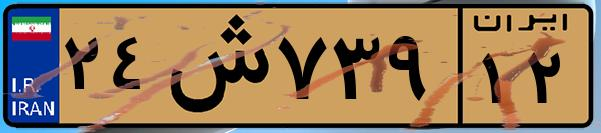1: (475, 38, 525, 113)
2: (57, 26, 110, 100), (525, 38, 570, 115)
3: (330, 28, 385, 110)
4: (110, 28, 158, 98)
7: (270, 28, 330, 110)
9: (385, 28, 445, 110)
ش: (158, 12, 270, 120)
